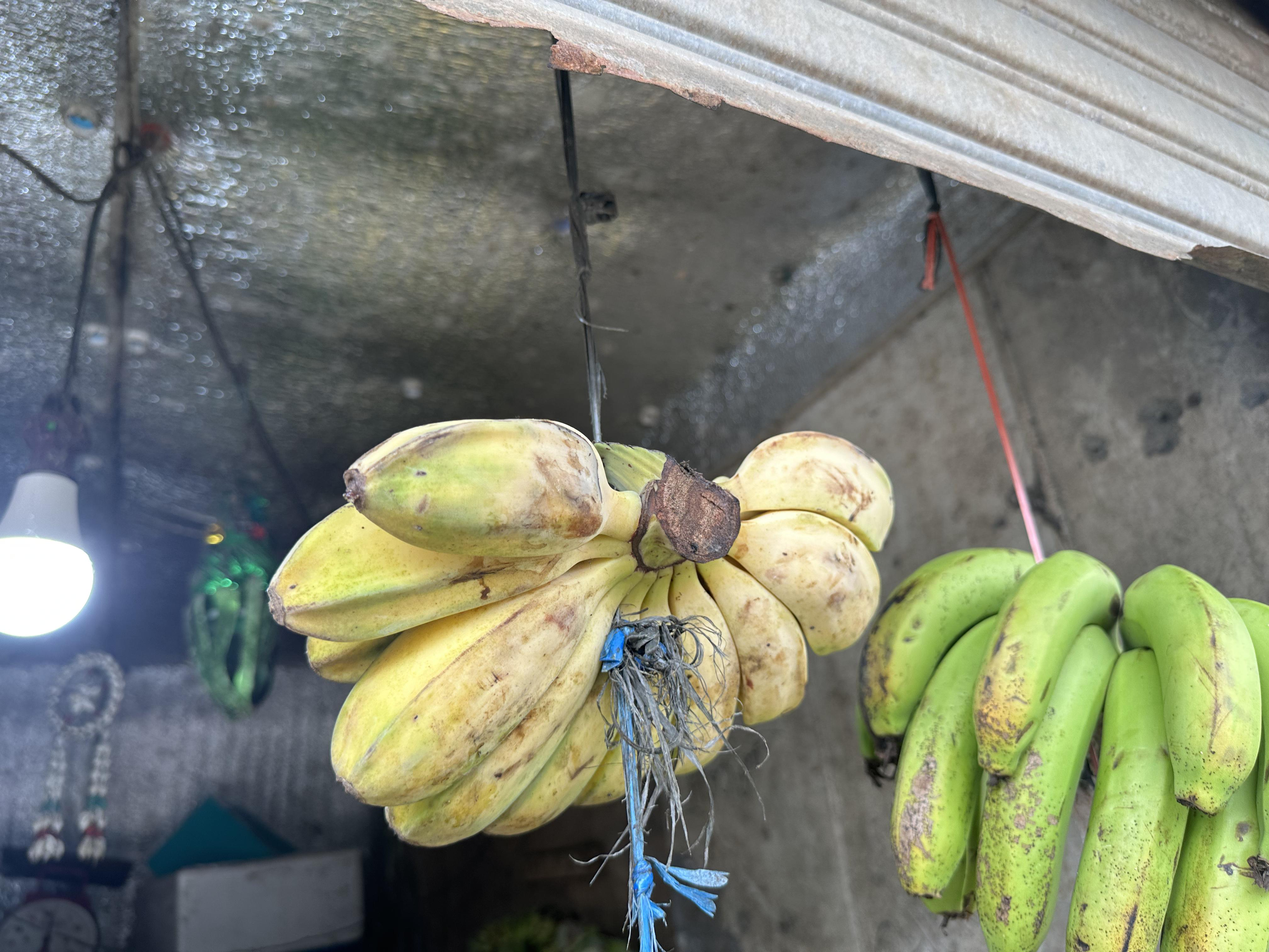ripe: (702, 432, 898, 723)
underripe: (265, 418, 624, 848)
